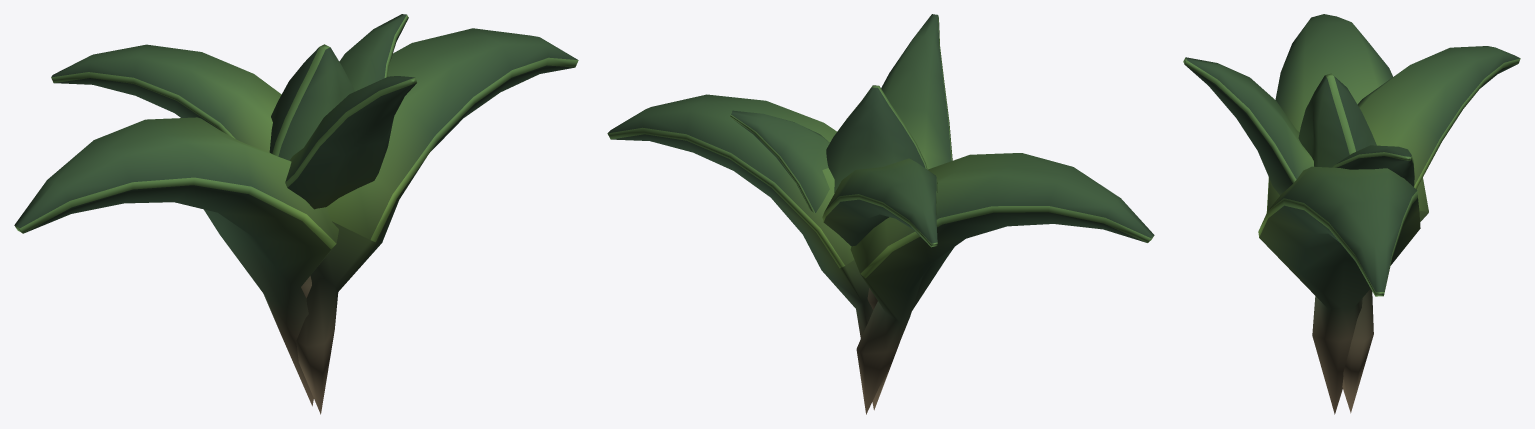
The picture shows the model from 3 angles, left to right: view 1: azimuth 30°, elevation 25°; view 2: azimuth 150°, elevation 25°; view 3: azimuth 270°, elevation 25°; orthographic projection. The views are drawn at different scales.
Parts seen in each view (by area): view 1: alt3.268; view 2: alt3.268; view 3: alt3.268.
Boxes of the visible parts, x1=… form: alt3.268: x1=14, y1=14, x2=578, y2=414; alt3.268: x1=607, y1=14, x2=1154, y2=414; alt3.268: x1=1183, y1=14, x2=1520, y2=414.
Size of the model in its own units: 0.5 by 0.317 by 0.2685.
